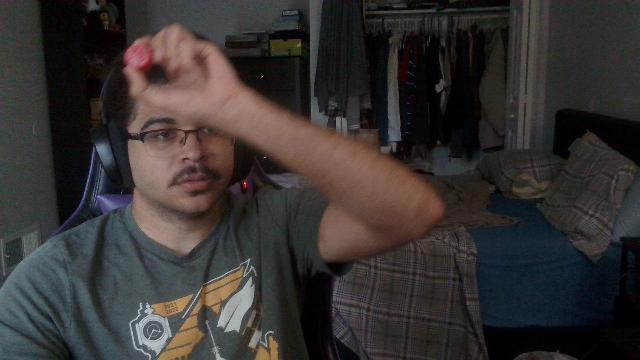cap: (124, 43, 152, 70)
